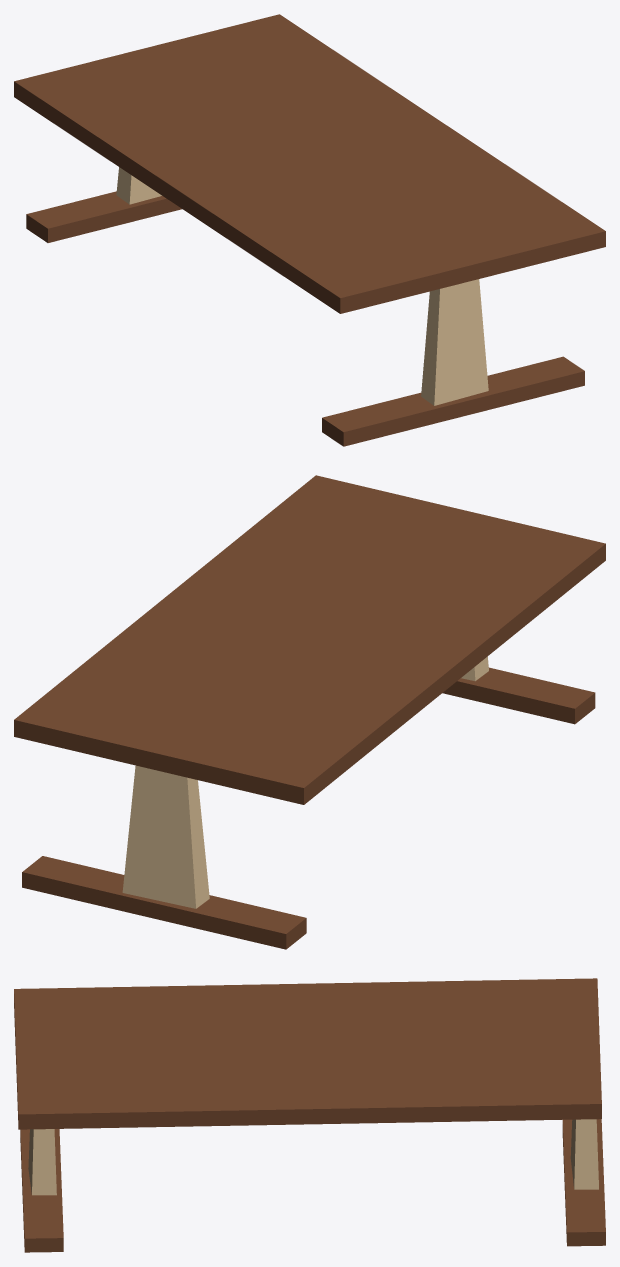
The model's file is table.fbx.
3 views of the same model, one above another, from view 1: azimuth 30°, elevation 25°; view 2: azimuth 150°, elevation 25°; view 3: azimuth 270°, elevation 25° (orthographic). The views are drawn at different scales.
Visible parts, largest first — view 1: pCylinder290; view 2: pCylinder290; view 3: pCylinder290.
Boxes of the visible parts, x1,y1,x2,y2 form: pCylinder290: (14, 14, 605, 446); pCylinder290: (14, 475, 605, 949); pCylinder290: (14, 978, 605, 1252).
Bounding box in the file's own units: 136 × 68.15 × 250.
